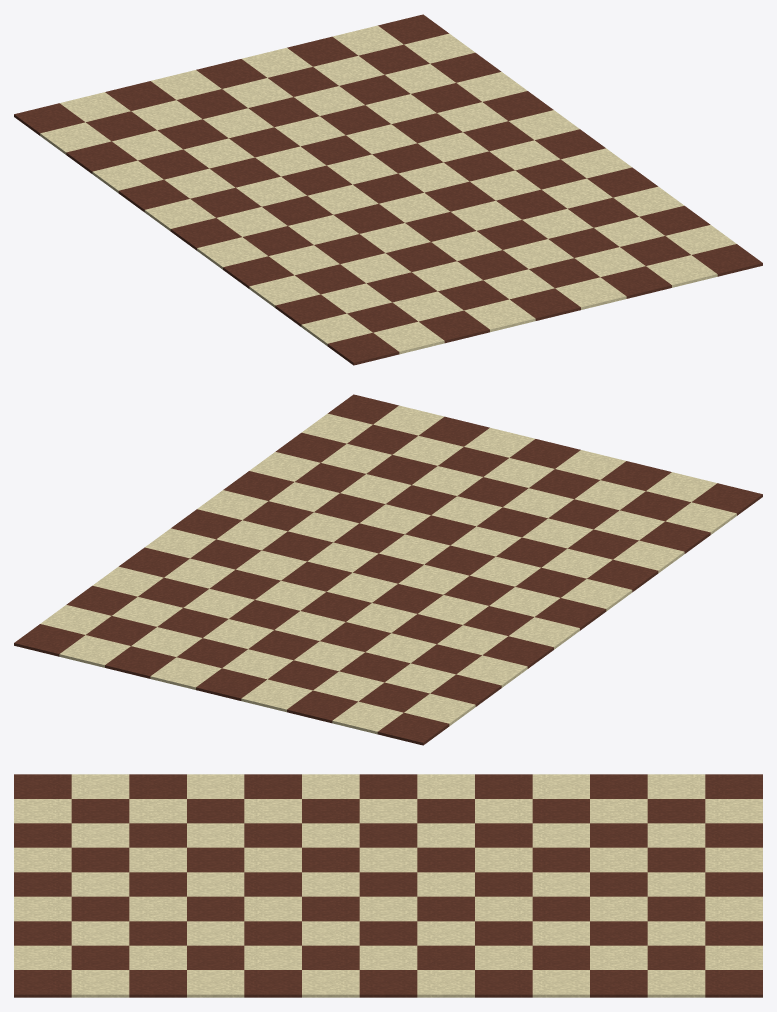
The model's file is alfombra-shaggy-cuadros-rojo-160x230.glb.
3 renders of one model, top to bottom at view 1: azimuth 30°, elevation 25°; view 2: azimuth 150°, elevation 25°; view 3: azimuth 270°, elevation 25°, orthographic. The views are drawn at different scales.
Visible parts, largest first — view 1: alfombra-shaggy-cuadros-rojo; view 2: alfombra-shaggy-cuadros-rojo; view 3: alfombra-shaggy-cuadros-rojo.
Boxes of the visible parts, x1=… form: alfombra-shaggy-cuadros-rojo: x1=14, y1=14, x2=762, y2=365; alfombra-shaggy-cuadros-rojo: x1=14, y1=394, x2=762, y2=745; alfombra-shaggy-cuadros-rojo: x1=14, y1=774, x2=762, y2=997.
Size of the model in its own units: 1.6 by 0.01 by 2.3.
2 materials, 2 textured.
